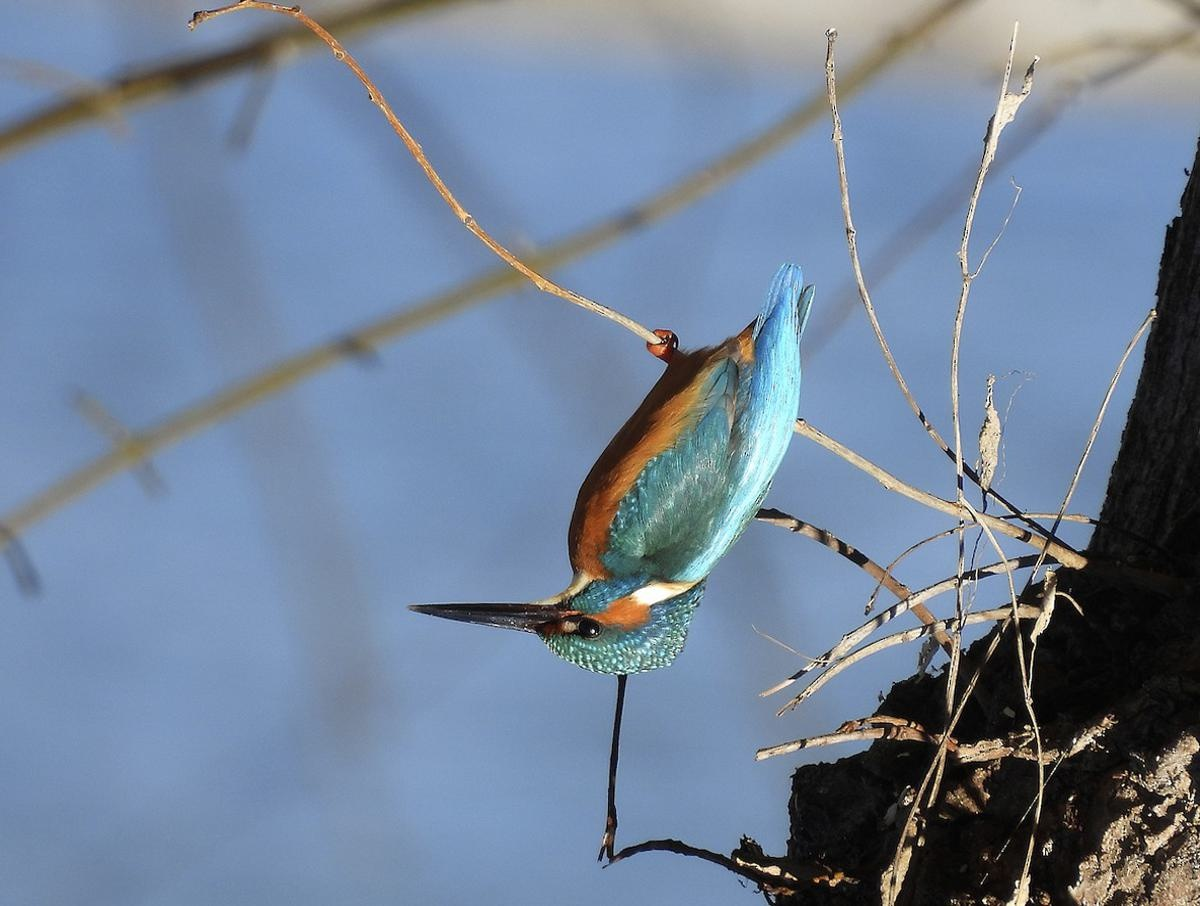kingfisher: (411, 257, 855, 677)
